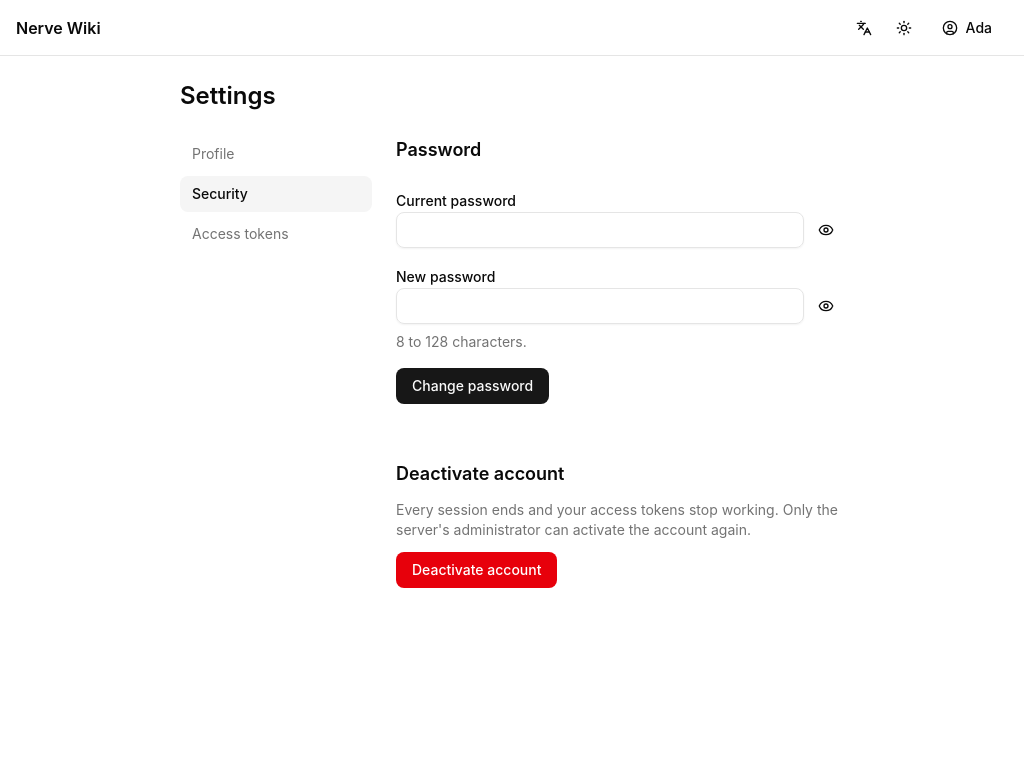
Test: a wrong current password shows under it, with nothing above the form
Step 1. Type "Wr0ng-password" into the password field labelled "Current password" → (600,230), box [396,212,804,248]
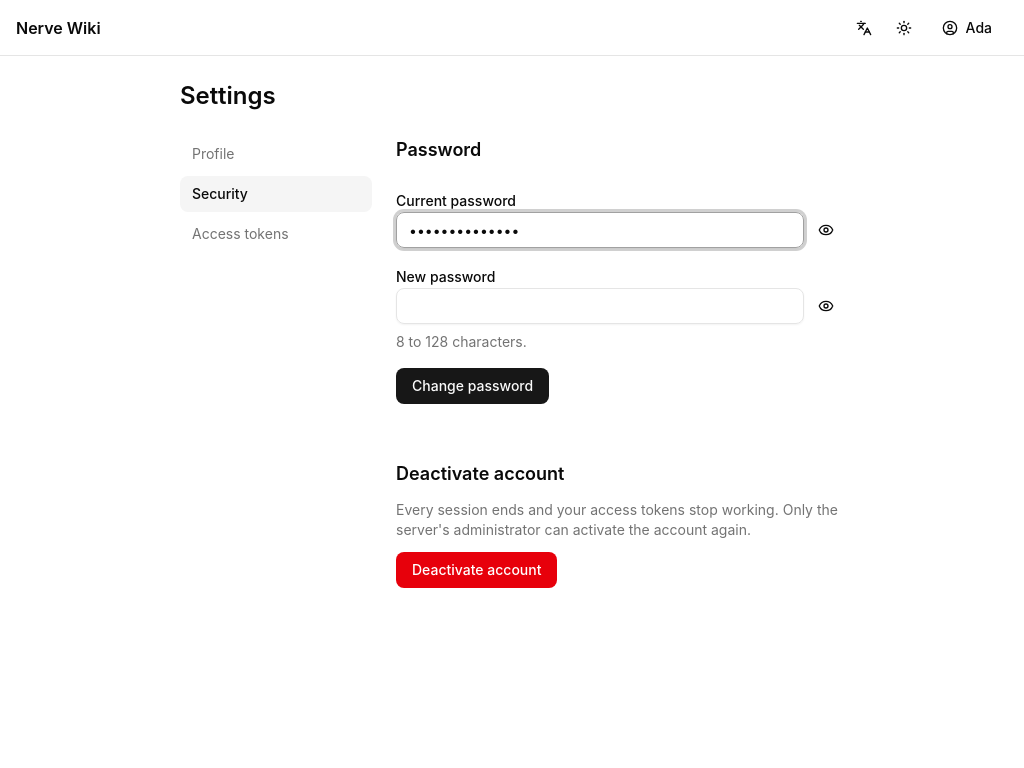
Step 2. Type "new horse battery" into the password field labelled "New password" → (600,306), box [396,288,804,324]
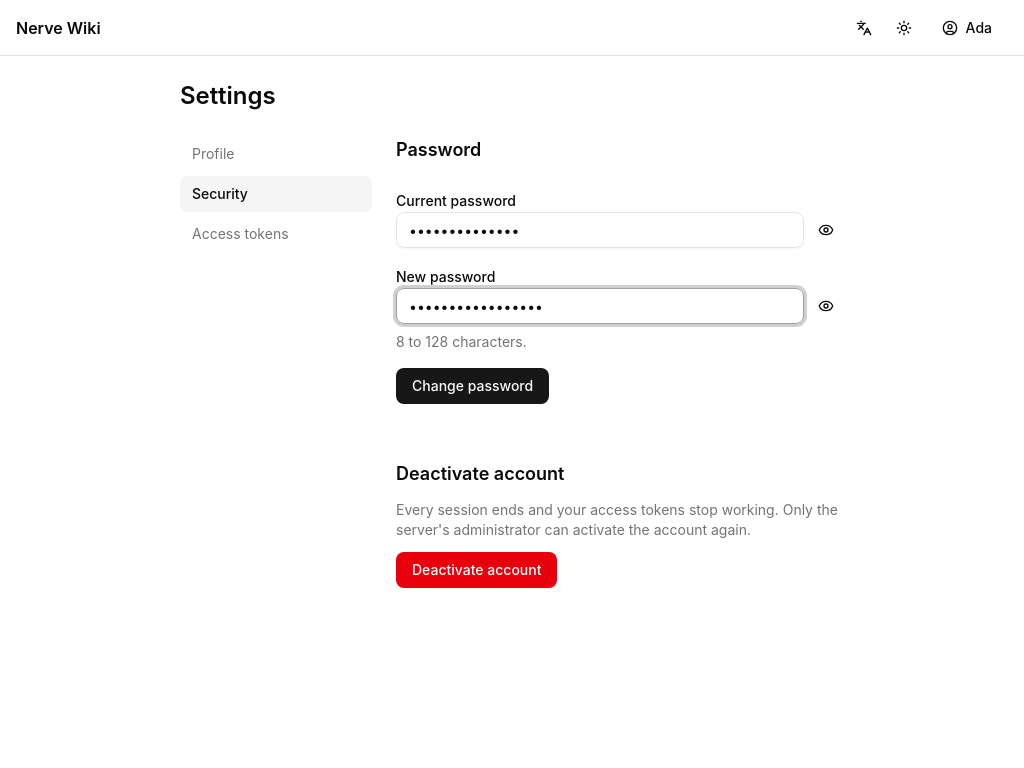
Step 3. Click the button "Change password" → (473,386), box [396,368,549,404]
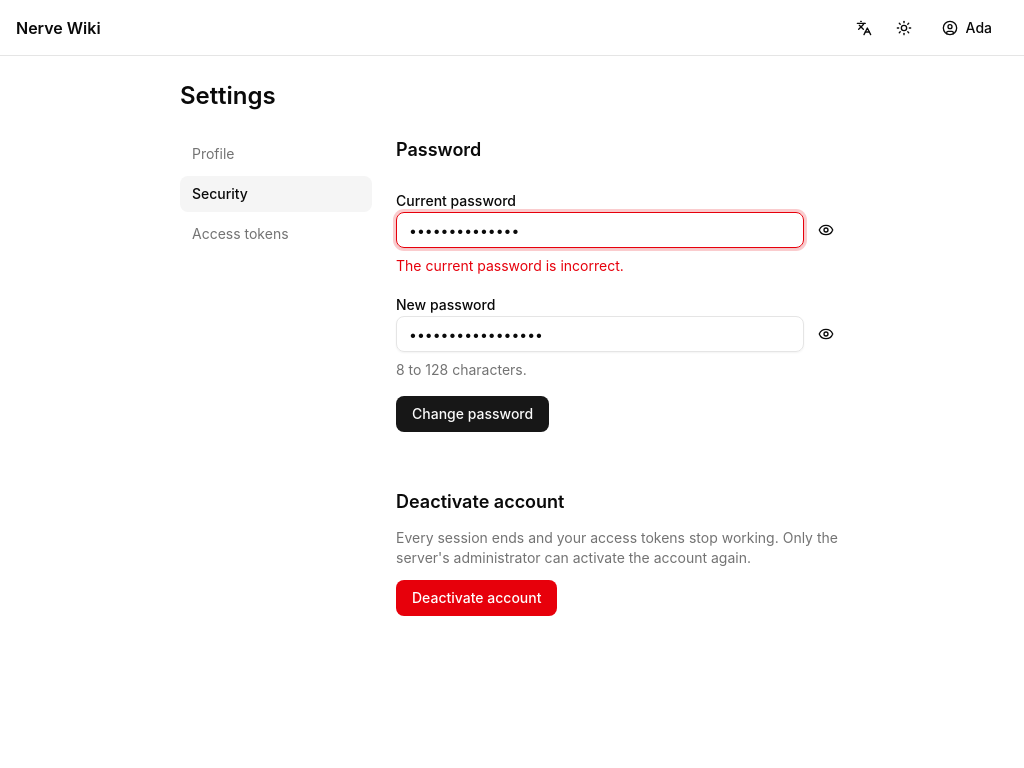
Expected: the text "The current password is incorrect." is shown, [396,257,624,274]
